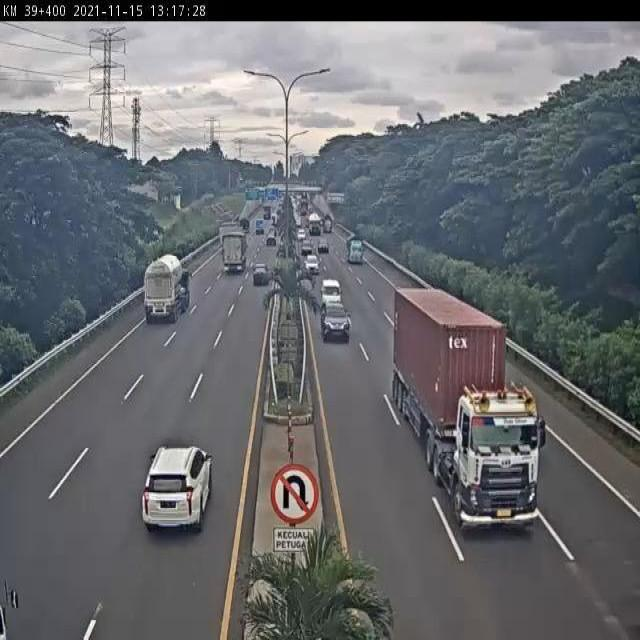car: (144, 441, 213, 536), (320, 301, 352, 343), (319, 277, 344, 307), (251, 260, 271, 288), (303, 253, 321, 275)
truck-xl-: (393, 284, 541, 533), (143, 250, 190, 326), (218, 230, 252, 278)
